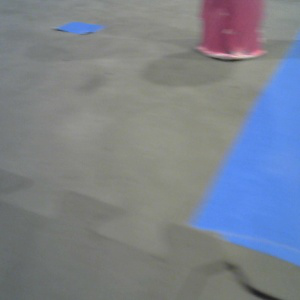right: (194, 1, 268, 59)
